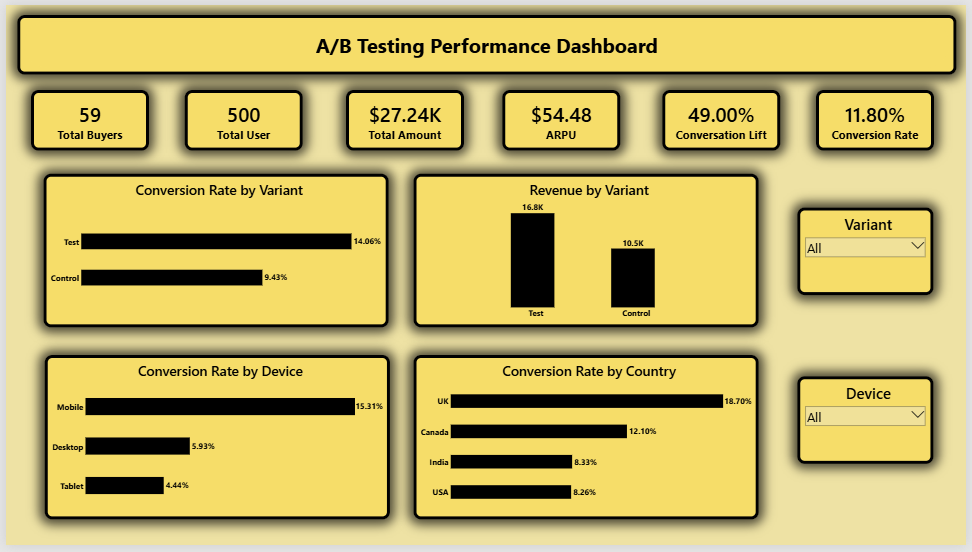

The page's visual inventory and layout, read from the dashboard file:
{"tool":"powerbi","page":{"name":"A/B Testing Performance Dashboard","canvas":[3840,2160],"ordinal":0},"visuals":[{"type":"shape","box":[43.3,39,3757,238.1],"z":0},{"type":"card","fields":{"Values":["ab_testing_clean.Total User"]},"box":[43.3,333.3,411.2,212.1],"z":2},{"type":"card","fields":{"Values":["ab_testing_clean.Total Amount"]},"box":[2384.9,337.6,411.2,212.1],"z":3},{"type":"card","fields":{"Values":["ab_testing_clean.ARPU"]},"box":[1908.8,337.6,411.2,207.8],"z":4},{"type":"card","fields":{"Values":["ab_testing_clean.Conversation Lift"]},"box":[1424,337.6,411.2,207.8],"z":5},{"type":"card","fields":{"Values":["ab_testing_clean.Conversation Rate"]},"box":[969.5,337.6,411.2,207.8],"z":6},{"type":"card","fields":{"Values":["ab_testing_clean.Total Buyers"]},"box":[506.4,333.3,411.2,212.1],"z":7},{"type":"clusteredBarChart","title":"Conversion Rate by Variant","fields":{"Category":["ab_testing_clean.variant"],"Y":["ab_testing_clean.Conversion Rate"]},"box":[151.5,675.2,1380.7,614.6],"z":8},{"type":"clusteredBarChart","title":"Conversion Rate by Country","fields":{"Category":["ab_testing_clean.country"],"Y":["ab_testing_clean.Conversion Rate"]},"box":[1631.8,1402.4,1380.7,657.9],"z":9},{"type":"columnChart","title":"Revenue by Variant","fields":{"Category":["ab_testing_clean.variant"],"Y":["Sum(ab_testing_clean.revenue)"]},"box":[1630.7,673.6,1380.4,614.7],"z":10},{"type":"clusteredBarChart","title":"Conversion Rate by Device","fields":{"Category":["ab_testing_clean.device"],"Y":["ab_testing_clean.Conversion Rate"]},"box":[155.8,1402.4,1380.7,657.9],"z":11},{"type":"slicer","title":"Variant","fields":{"Values":["ab_testing_clean.variant"]},"box":[3165,810,545,350],"z":12},{"type":"slicer","title":"Device","fields":{"Values":["ab_testing_clean.device"]},"box":[3165,1485,545,350],"z":13},{"type":"card","fields":{"Values":["ab_testing_clean.Revenue By Buyers"]},"box":[2861,337.6,415.5,212.1],"z":14},{"type":"card","fields":{"Values":["ab_testing_clean.Winning Variant"]},"box":[3345.8,341.9,415.5,212.1],"z":15}]}

Visuals, with their boxes in screenshot pixels (x1, y1, x2, y2), scaled from the page's 3840x2160 canvas onto the 972x552 screenshot:
shape: left=11, top=10, right=962, bottom=71
card - ab_testing_clean.Total User: left=11, top=85, right=115, bottom=139
card - ab_testing_clean.Total Amount: left=604, top=86, right=708, bottom=140
card - ab_testing_clean.ARPU: left=483, top=86, right=587, bottom=139
card - ab_testing_clean.Conversation Lift: left=360, top=86, right=465, bottom=139
card - ab_testing_clean.Conversation Rate: left=245, top=86, right=349, bottom=139
card - ab_testing_clean.Total Buyers: left=128, top=85, right=232, bottom=139
"Conversion Rate by Variant" clusteredBarChart: left=38, top=173, right=388, bottom=330
"Conversion Rate by Country" clusteredBarChart: left=413, top=358, right=763, bottom=527
"Revenue by Variant" columnChart: left=413, top=172, right=762, bottom=329
"Conversion Rate by Device" clusteredBarChart: left=39, top=358, right=389, bottom=527
"Variant" slicer: left=801, top=207, right=939, bottom=296
"Device" slicer: left=801, top=379, right=939, bottom=469
card - ab_testing_clean.Revenue By Buyers: left=724, top=86, right=829, bottom=140
card - ab_testing_clean.Winning Variant: left=847, top=87, right=952, bottom=142
